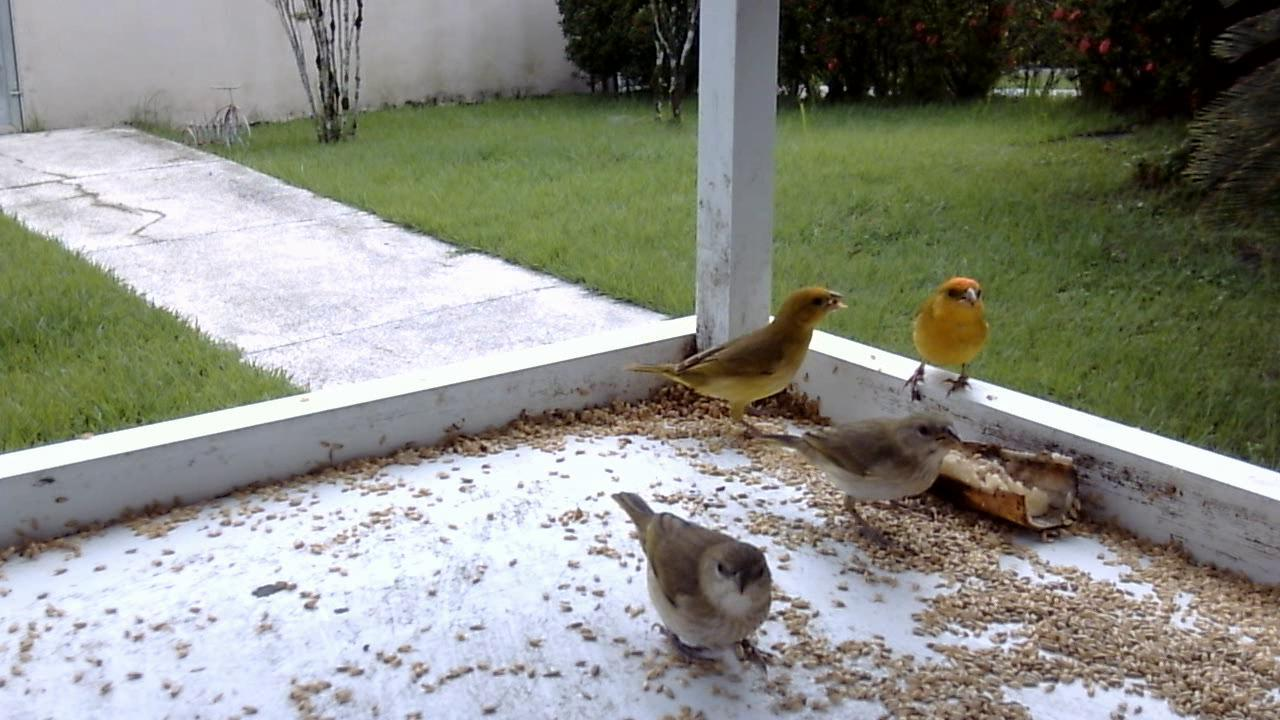canario_do_amazonas: (740, 401, 980, 556), (624, 283, 849, 439), (603, 486, 783, 674), (898, 272, 996, 409)
